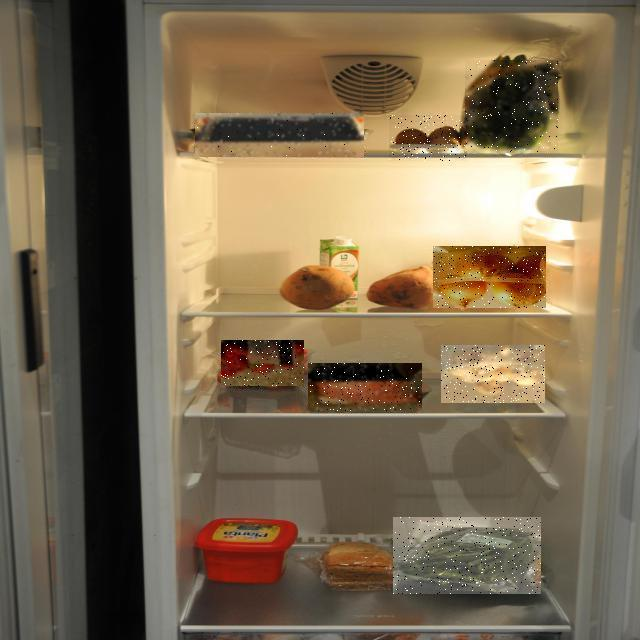Beans: (393, 517, 541, 594)
Eggs: (389, 115, 467, 161)
Meat: (195, 113, 364, 157), (308, 363, 422, 411)
Mushroom: (441, 345, 545, 403)
Onion: (433, 246, 546, 308)
Spinach: (465, 60, 558, 153)
Tomatoes: (221, 340, 304, 386)
